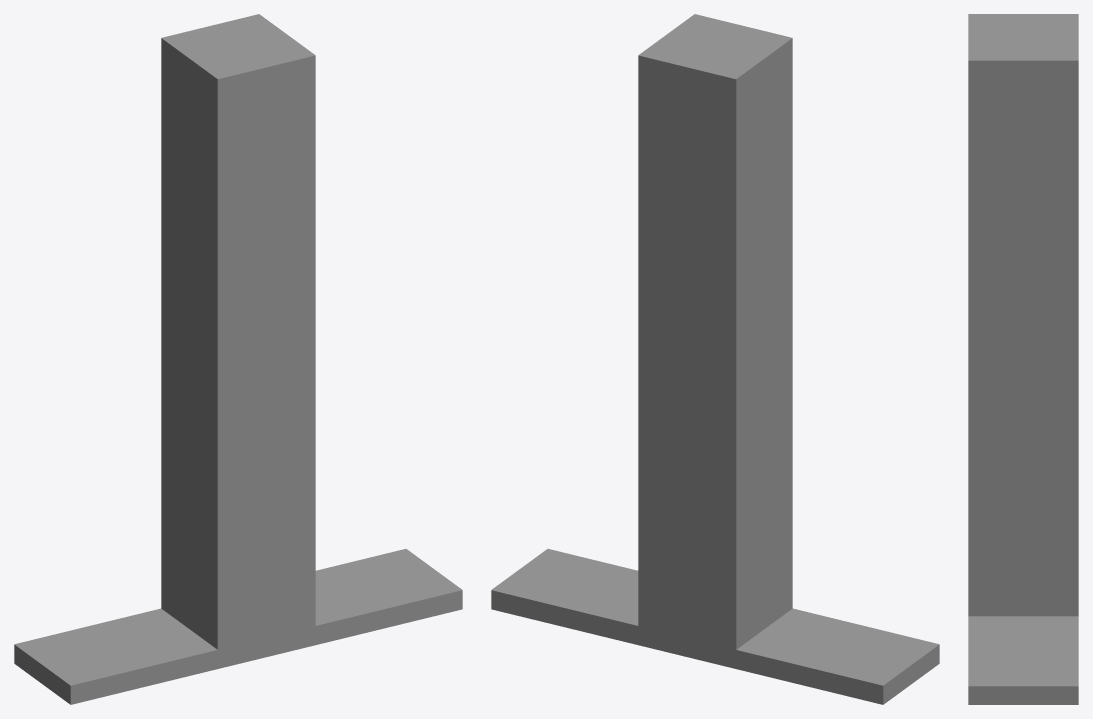
Rendered from outside_corridor_side_pillar.obj.
3 renders of one model, left to right at view 1: azimuth 30°, elevation 25°; view 2: azimuth 150°, elevation 25°; view 3: azimuth 270°, elevation 25°, orthographic. The views are drawn at different scales.
Bounding box in the file's own units: 6.4 × 9.2 × 1.6.
1 material, 1 textured.
